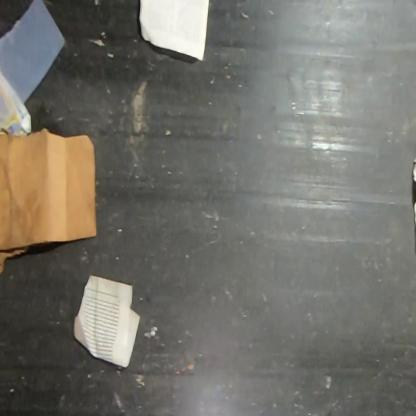cardboard: (0, 127, 98, 278)
soft_plastic: (0, 0, 66, 105)
